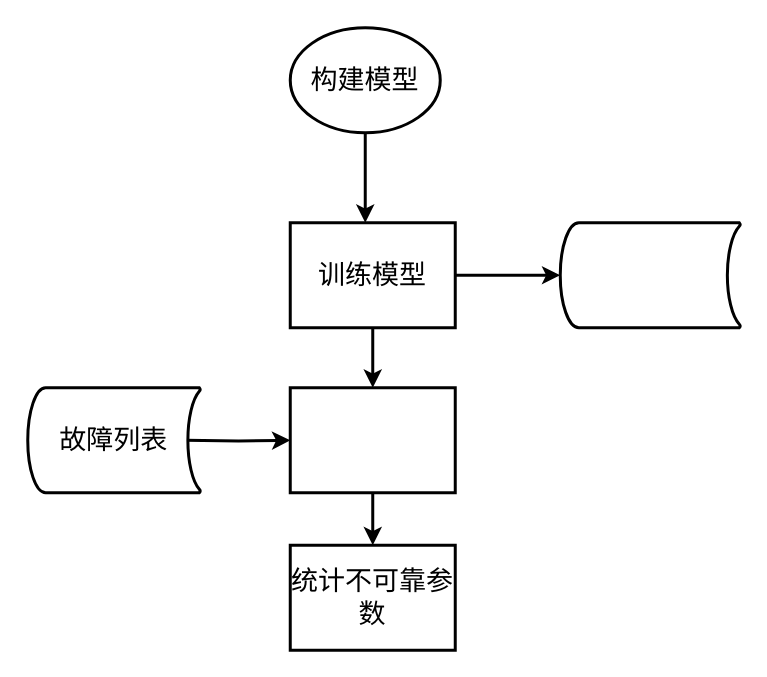
This 767x677 diagram has some shape labels left out. The shapes that lost their labels are listed below. From the top down, each one's centre as x and y in pixels, then its label:
(x=649, y=274): 理想准确度
(x=372, y=440): 注入故障
